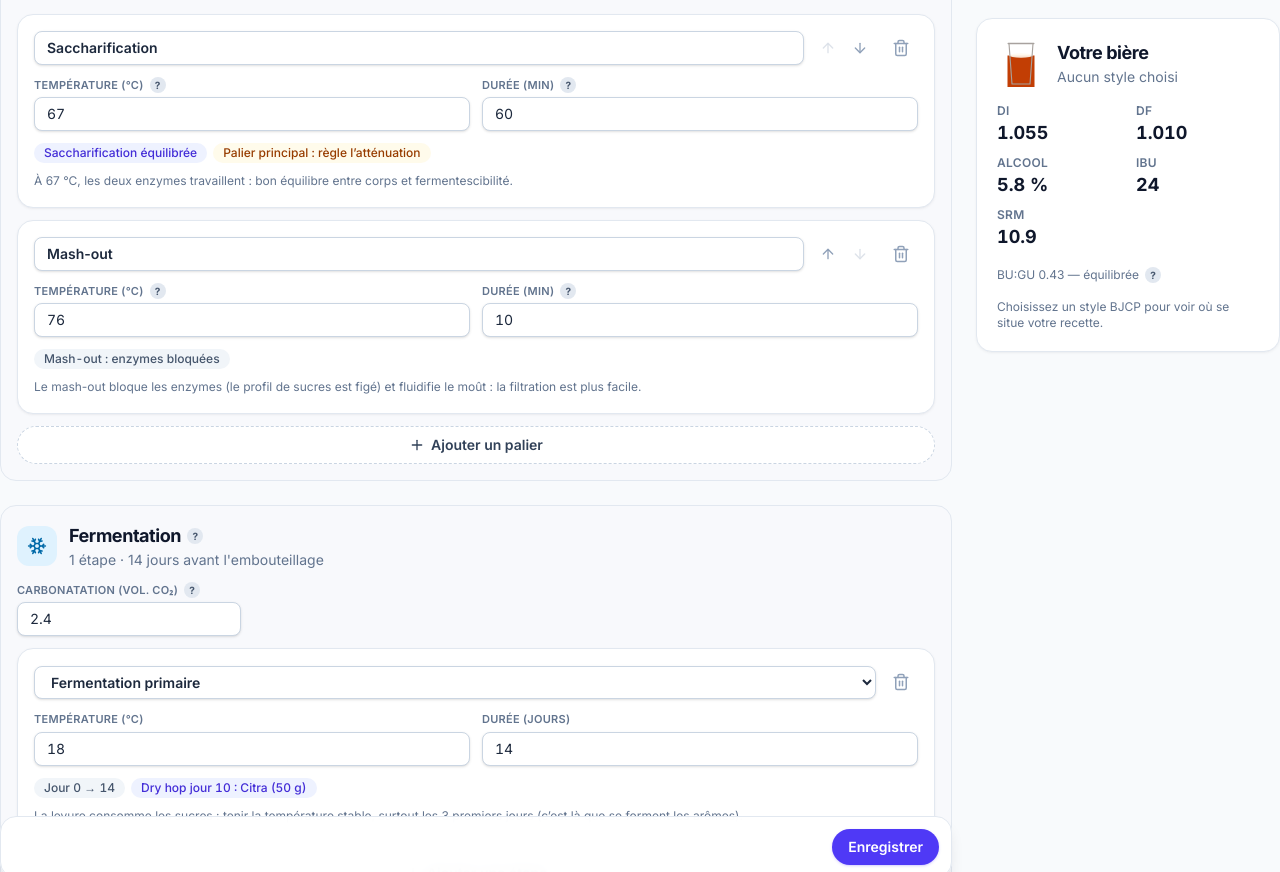
Test case: RecipeForm › édite les paliers d’empâtage ; le palier principal règle l’atténuation
(page scrolled)
# Un nouveau palier se place avant le mash-out.
Step 1. Click the button "Ajouter un palier" → (476, 445), box left=17, top=426, right=935, bottom=464
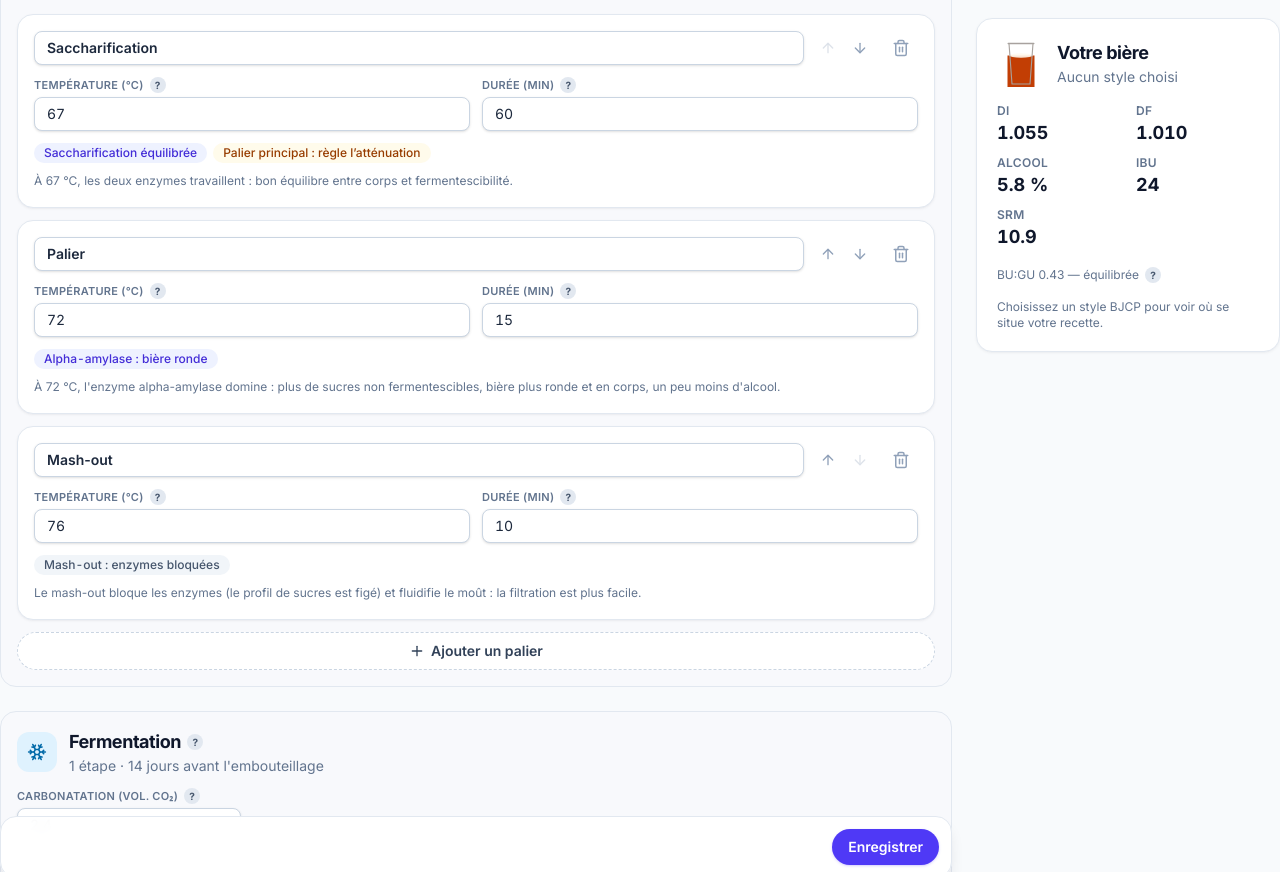
# Saccharification à 64 °C : l'atténuation retenue suit (81 % + 3 points).
Step 2. Replace the text in the 1st number field showing "67" with "64" → (252, 114), box left=34, top=97, right=470, bottom=131
(page scrolled)
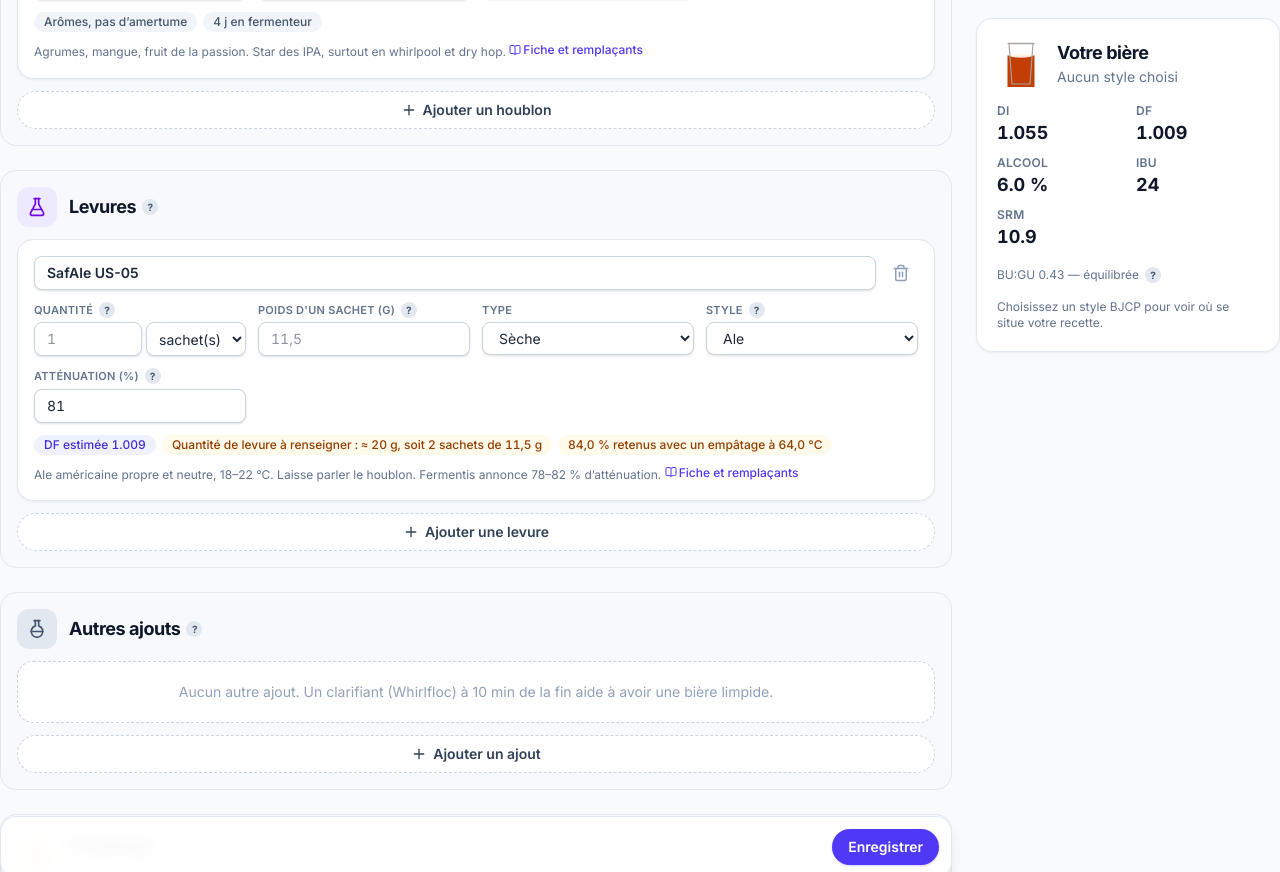
Result: the text "84,0 % retenus avec un empâtage à 64,0 °C" is shown at left=558, top=434, right=832, bottom=454
